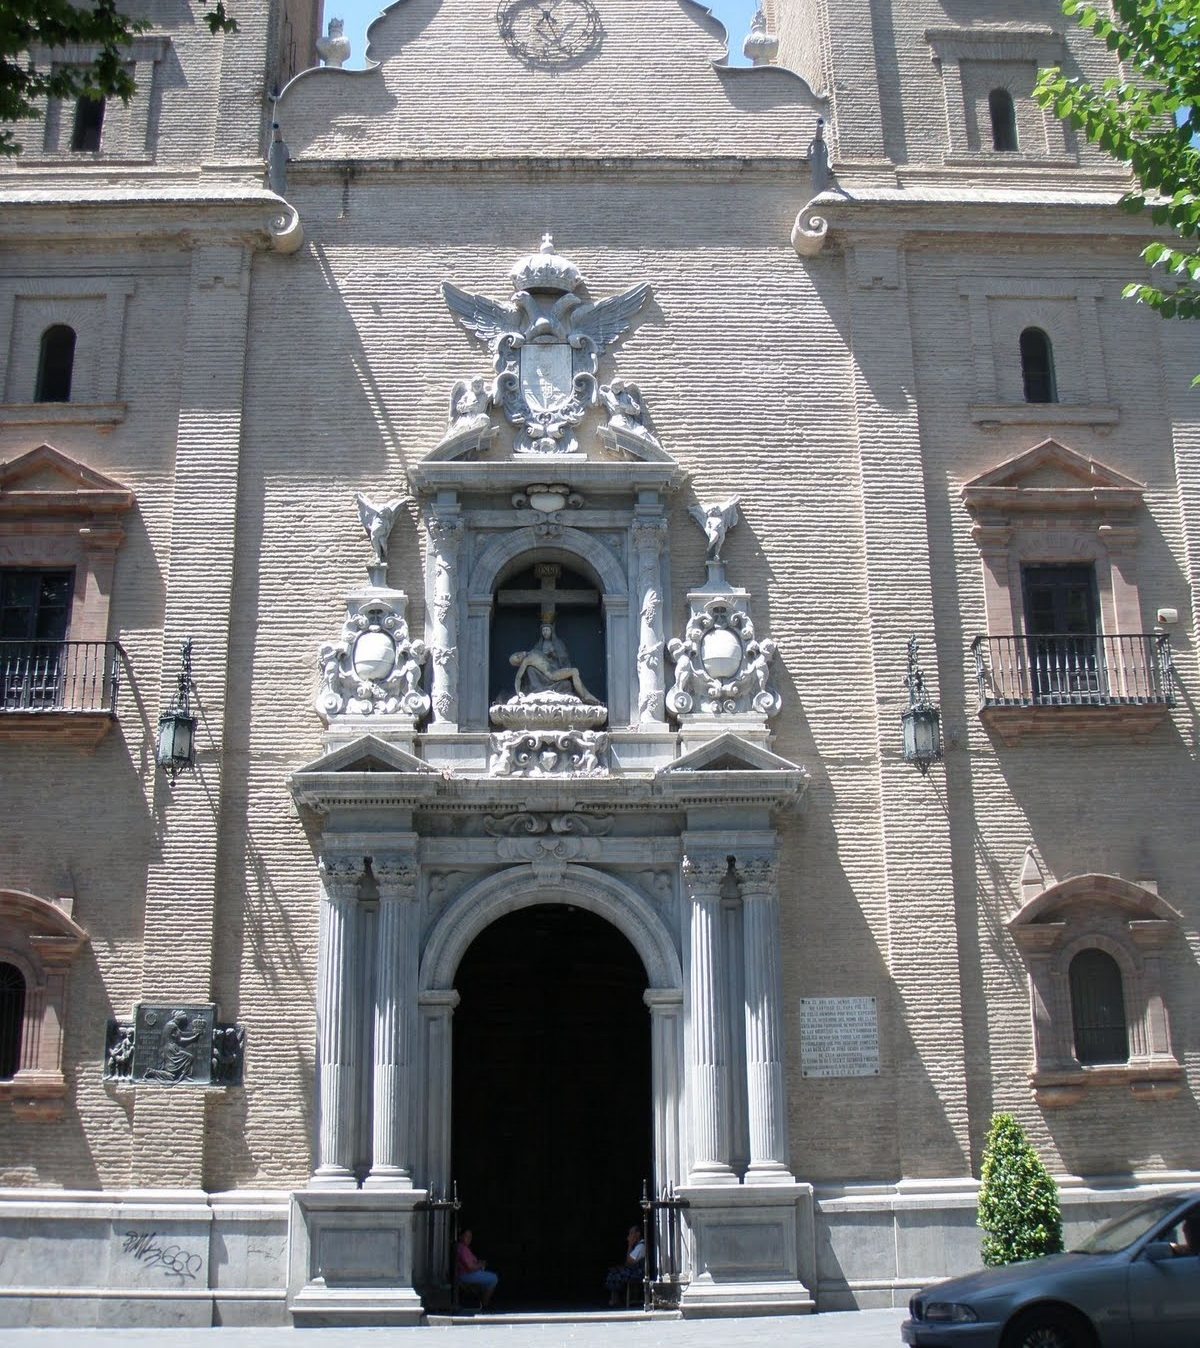arco-medio-punto: (439, 891, 667, 1035), (477, 541, 619, 624)
fronton: (954, 430, 1161, 510), (1, 435, 142, 521), (290, 732, 442, 787), (657, 730, 812, 783)
fronton-partido: (409, 417, 687, 479), (1008, 869, 1197, 942), (1, 884, 98, 951)
